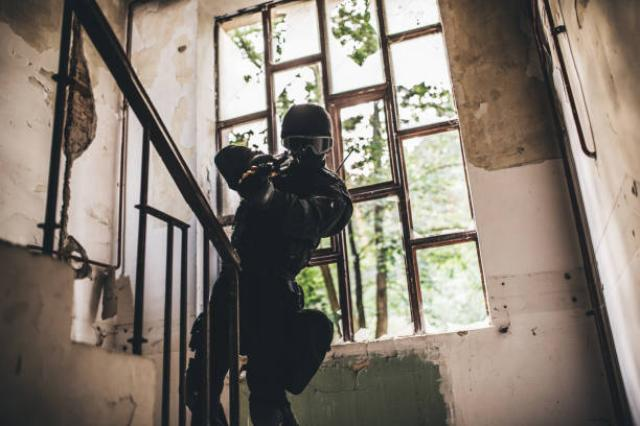other: (185, 102, 351, 424)
